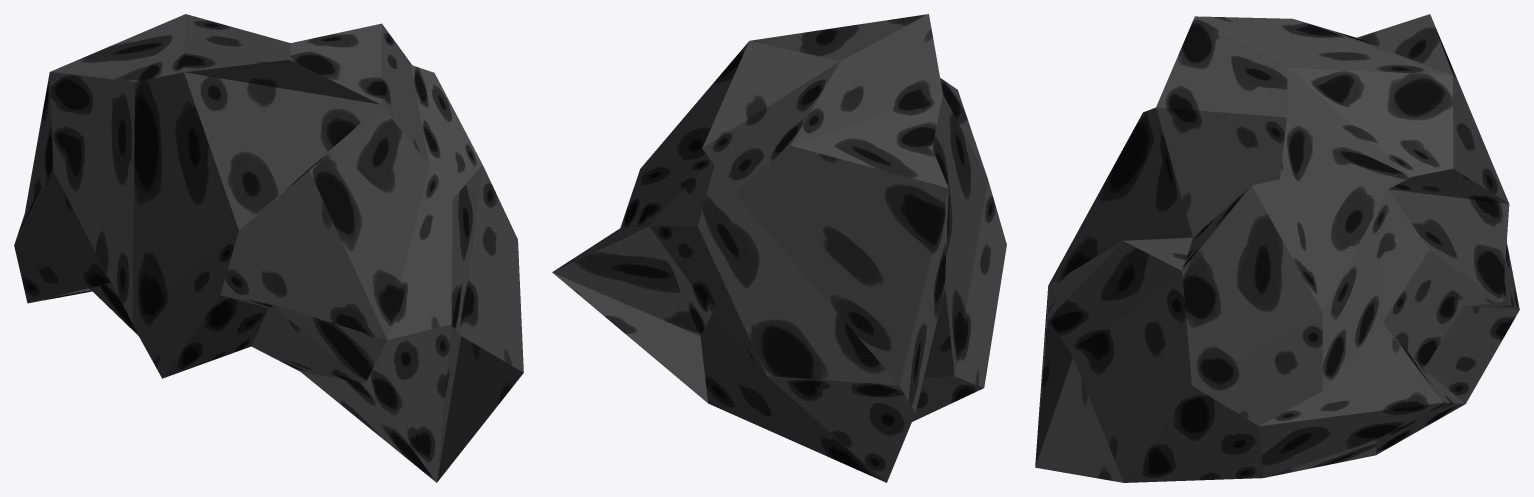
File: asteroid 2.fbx
3 renders of one model, left to right at view 1: azimuth 30°, elevation 25°; view 2: azimuth 150°, elevation 25°; view 3: azimuth 270°, elevation 25°, orthographic. The views are drawn at different scales.
Parts seen in each view (by area): view 1: Platonic; view 2: Platonic; view 3: Platonic.
Boxes of the visible parts, x1,y1,x2,y2 form: Platonic: (14, 14, 523, 482); Platonic: (552, 14, 1006, 482); Platonic: (1035, 14, 1519, 482).
Size of the model in its own units: 246 by 233 by 248.
Materials: 1 (1 with a texture image).
